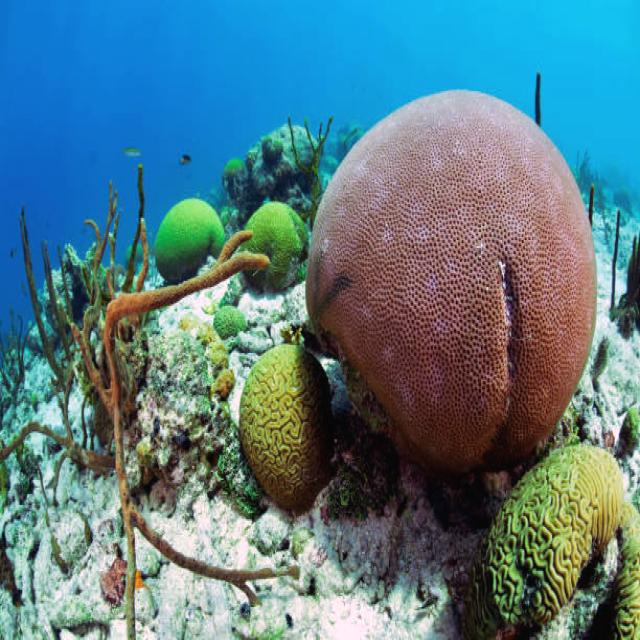Coral: (305, 89, 598, 476), (461, 442, 640, 639), (238, 344, 332, 511), (239, 201, 309, 291), (156, 198, 226, 281), (213, 306, 246, 340)
